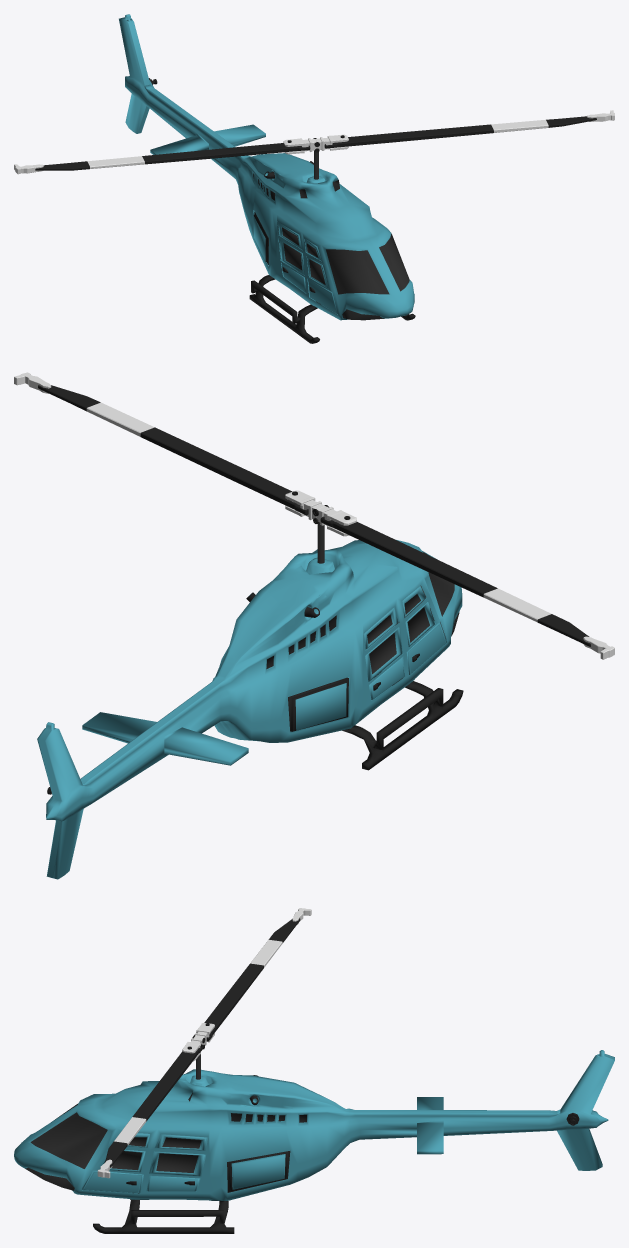
The model's file is bell.glb.
3 views of the same model, one above another, from view 1: azimuth 30°, elevation 25°; view 2: azimuth 150°, elevation 25°; view 3: azimuth 270°, elevation 25° (orthographic). The views are drawn at different scales.
Parts seen in each view (by area): view 1: body_helicopter, baling baling_1; view 2: body_helicopter, baling baling_1; view 3: body_helicopter, baling baling_1.
Part boxes in pixels (box(x1,y1,x2,y2)): body_helicopter: box(119, 14, 415, 343); baling baling_1: box(14, 110, 614, 174); body_helicopter: box(37, 522, 463, 879); baling baling_1: box(14, 372, 614, 659); body_helicopter: box(14, 1050, 614, 1233); baling baling_1: box(97, 908, 311, 1178).
Bounding box in the file's own units: 18.85 × 5.7 × 18.06.
